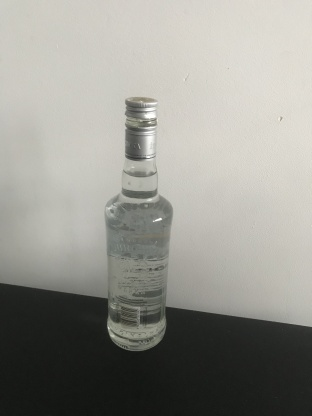nakretka: (123, 95, 159, 161)
